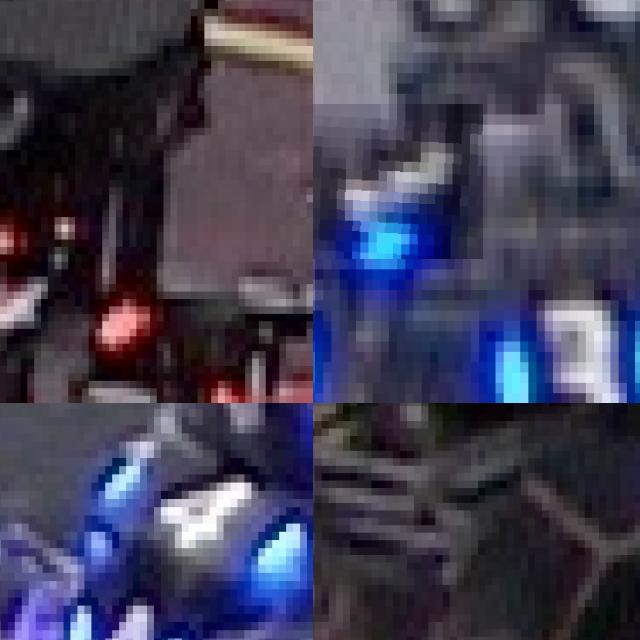B3: (313, 104, 483, 259), (475, 290, 640, 403)
B4: (105, 433, 313, 580), (63, 589, 188, 640)
